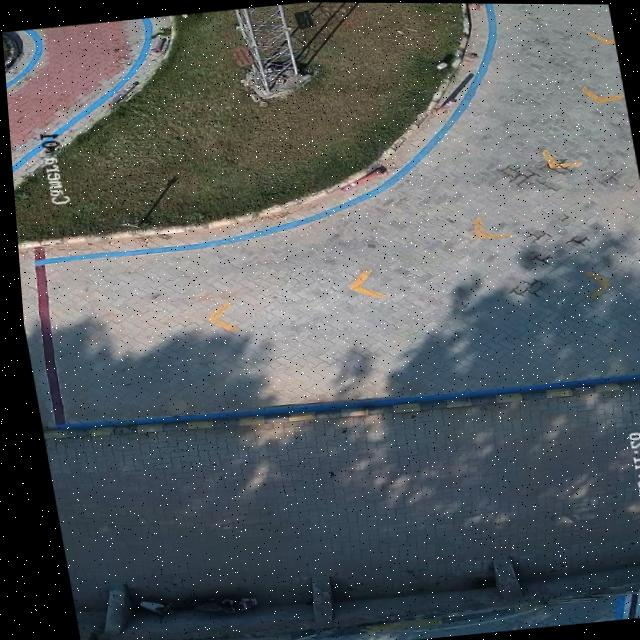No Car: (2, 2, 640, 640)
